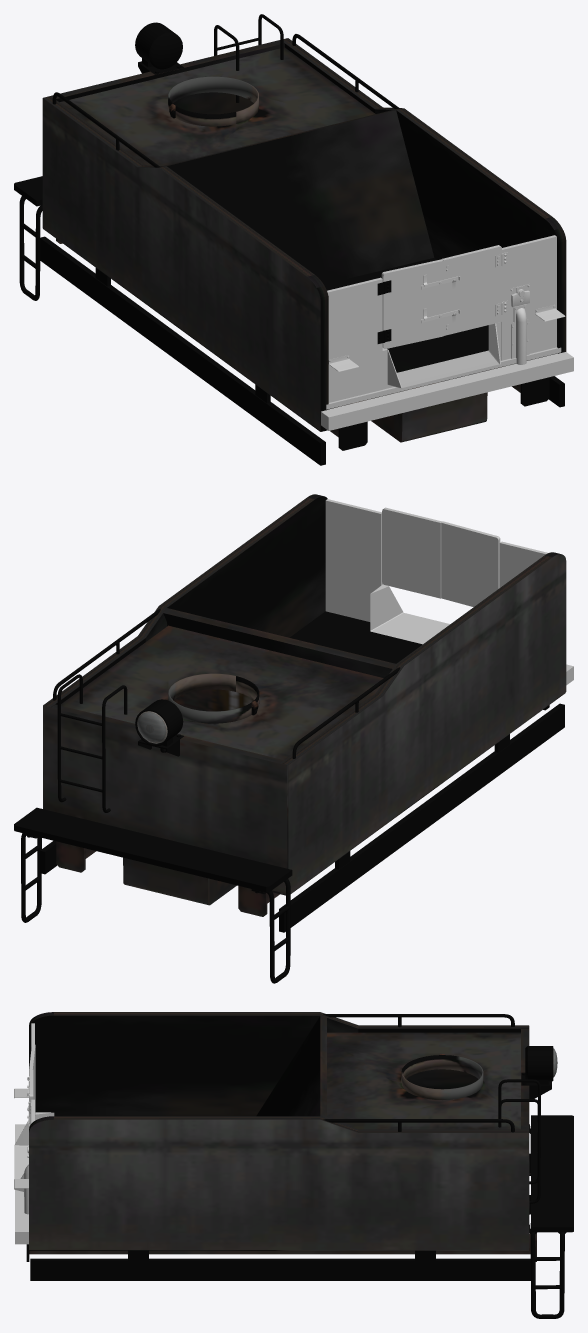
File: 060tender.fbx
3 renders of one model, top to bottom at view 1: azimuth 30°, elevation 25°; view 2: azimuth 150°, elevation 25°; view 3: azimuth 270°, elevation 25°, orthographic. The views are drawn at different scales.
Parts seen in each view (by area): view 1: Cube.005, s282_tender_cab, s282_tender.001, s282_tender.006, CarTank_LOD0.004, s282_tender.002, s282_tender.003, s282_tender.005, s282_tender.007, s282_tender.004; view 2: Cube.005, s282_tender_cab, s282_tender.003, s282_tender.001, s282_tender.009, CarTank_LOD0.004, s282_tender.004, s282_tender.010, s282_tender.002, s282_tender.007, s282_tender_light_glass; view 3: Cube.005, s282_tender.001, s282_tender.003, s282_tender_cab, s282_tender.005, CarTank_LOD0.004, s282_tender.007, s282_tender.002, s282_tender.004.
Part boxes in pixels (<box>): Cube.005: <box>42,38,566,431</box>; s282_tender_cab: <box>321,235,573,430</box>; s282_tender.001: <box>40,236,564,465</box>; s282_tender.006: <box>371,392,487,442</box>; CarTank_LOD0.004: <box>168,76,258,126</box>; s282_tender.002: <box>135,22,183,74</box>; s282_tender.003: <box>14,176,42,300</box>; s282_tender.005: <box>330,377,549,450</box>; s282_tender.007: <box>52,34,399,167</box>; s282_tender.004: <box>214,14,283,102</box>; Cube.005: <box>43,494,566,895</box>; s282_tender_cab: <box>325,499,573,685</box>; s282_tender.003: <box>14,807,292,983</box>; s282_tender.001: <box>40,703,564,932</box>; s282_tender.009: <box>123,857,236,905</box>; CarTank_LOD0.004: <box>168,673,259,723</box>; s282_tender.004: <box>57,674,127,812</box>; s282_tender.010: <box>56,841,267,916</box>; s282_tender.002: <box>135,699,183,756</box>; s282_tender.007: <box>53,609,400,758</box>; s282_tender_light_glass: <box>137,711,167,743</box>; Cube.005: <box>29,1012,529,1250</box>; s282_tender.001: <box>30,1153,530,1280</box>; s282_tender.003: <box>529,1115,573,1318</box>; s282_tender_cab: <box>14,1023,54,1244</box>; s282_tender.005: <box>26,1173,530,1261</box>; CarTank_LOD0.004: <box>401,1054,483,1099</box>; s282_tender.007: <box>323,1014,514,1132</box>; s282_tender.002: <box>521,1046,553,1098</box>; s282_tender.004: <box>498,1079,540,1203</box>.
Bounding box in the file's own units: 240 × 217 × 507.
